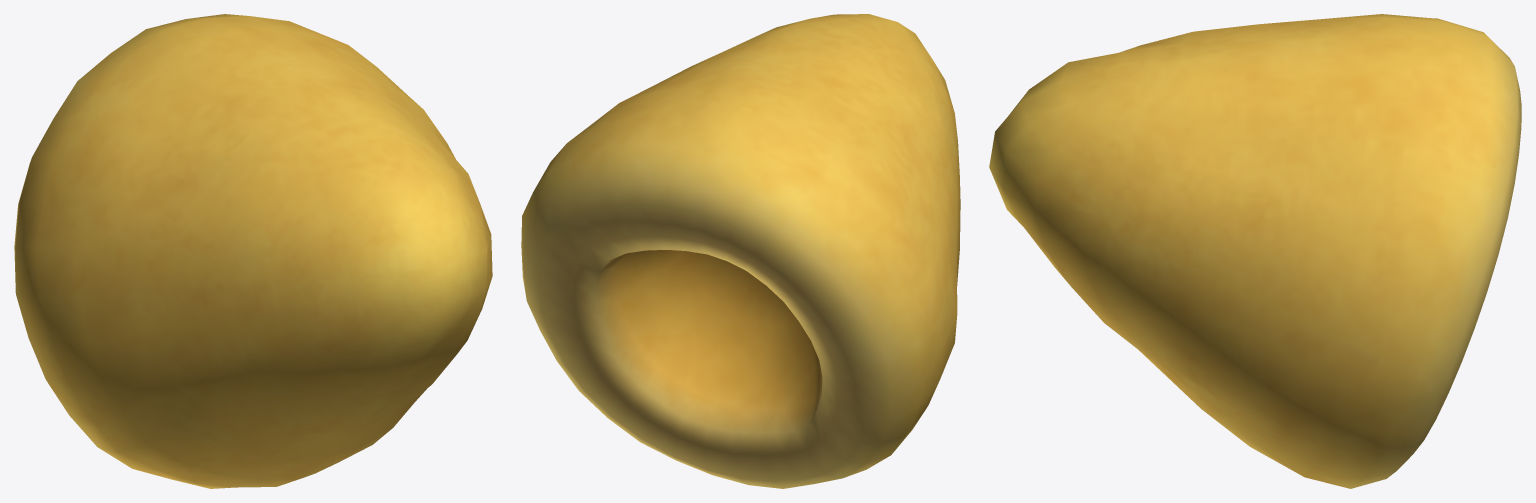
File: ref_bfwowotou.glb
3 renders of one model, left to right at view 1: azimuth 30°, elevation 25°; view 2: azimuth 150°, elevation 25°; view 3: azimuth 270°, elevation 25°, orthographic. The views are drawn at different scales.
Parts seen in each view (by area): view 1: ref_bfwowotou_part0; view 2: ref_bfwowotou_part0; view 3: ref_bfwowotou_part0.
Part boxes in pixels (<box>): ref_bfwowotou_part0: <box>14,14,492,488</box>; ref_bfwowotou_part0: <box>521,14,960,488</box>; ref_bfwowotou_part0: <box>989,14,1521,488</box>.
Bounding box in the file's own units: 0.9037 × 0.8919 × 1.
Materials: 1 (1 with a texture image).
